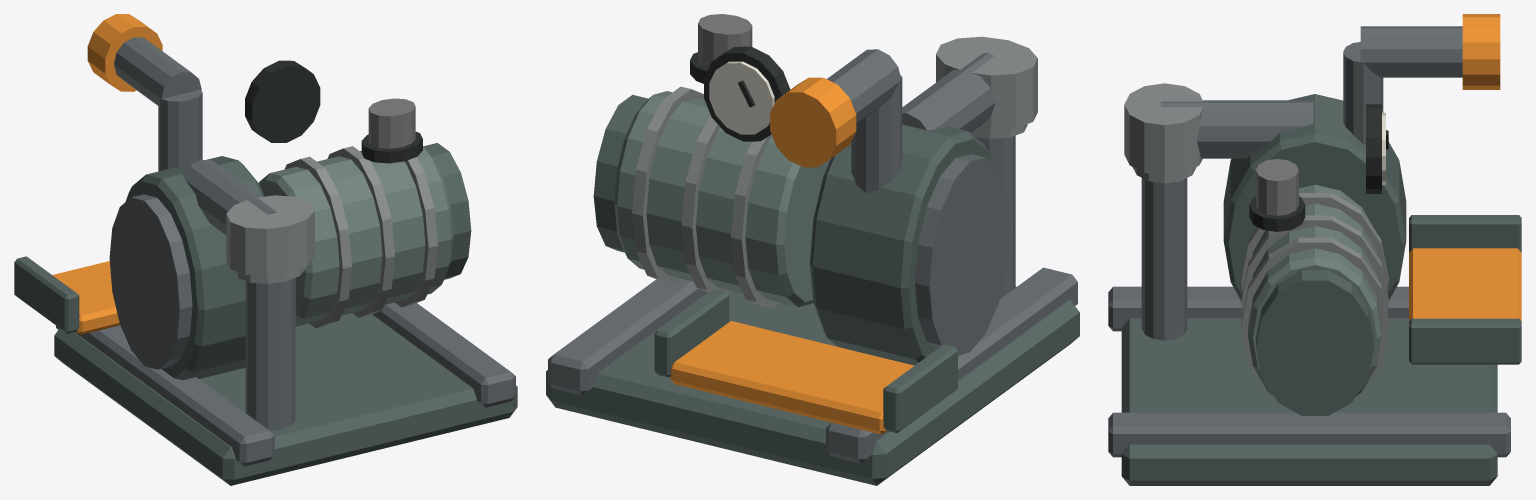
The model's file is water_pump.glb.
The picture shows the model from 3 angles, left to right: view 1: azimuth 30°, elevation 25°; view 2: azimuth 150°, elevation 25°; view 3: azimuth 270°, elevation 25°; orthographic projection. The views are drawn at different scales.
Visible parts, largest first — view 1: water_pump, Lamp; view 2: water_pump, Lamp; view 3: water_pump, Lamp.
Part boxes in pixels (box(x1,y1,x2,y2)): water_pump: box(14, 14, 517, 485); Lamp: box(368, 98, 415, 148); water_pump: box(546, 36, 1079, 485); Lamp: box(698, 14, 752, 67); water_pump: box(1108, 14, 1521, 485); Lamp: box(1256, 159, 1298, 215).
Bounding box in the file's own units: 1.18 × 1.13 × 1.19.
